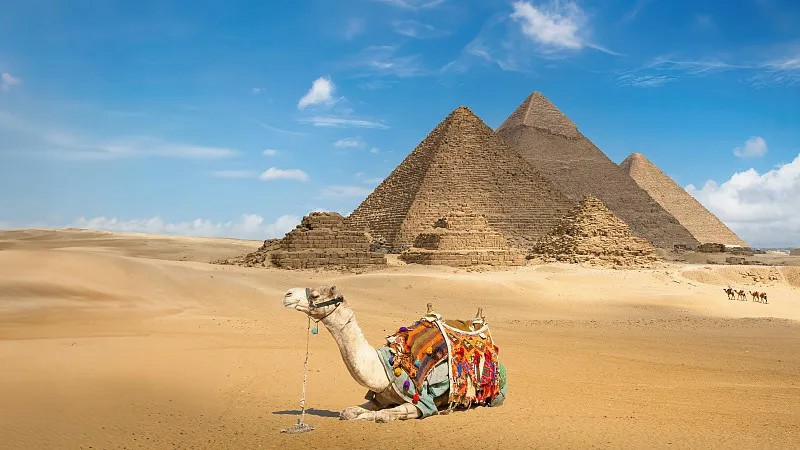Pyramid: (348, 107, 577, 254), (496, 91, 705, 249), (619, 152, 749, 247), (536, 197, 659, 266), (400, 204, 530, 267), (252, 213, 389, 269)
